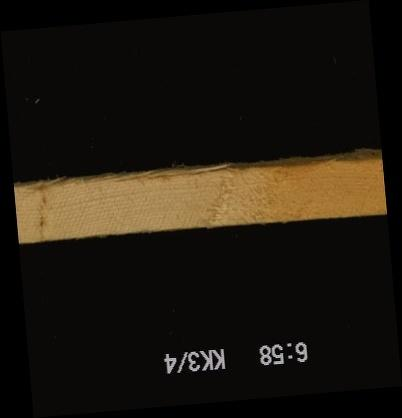small_knot: (16, 186, 62, 238)
